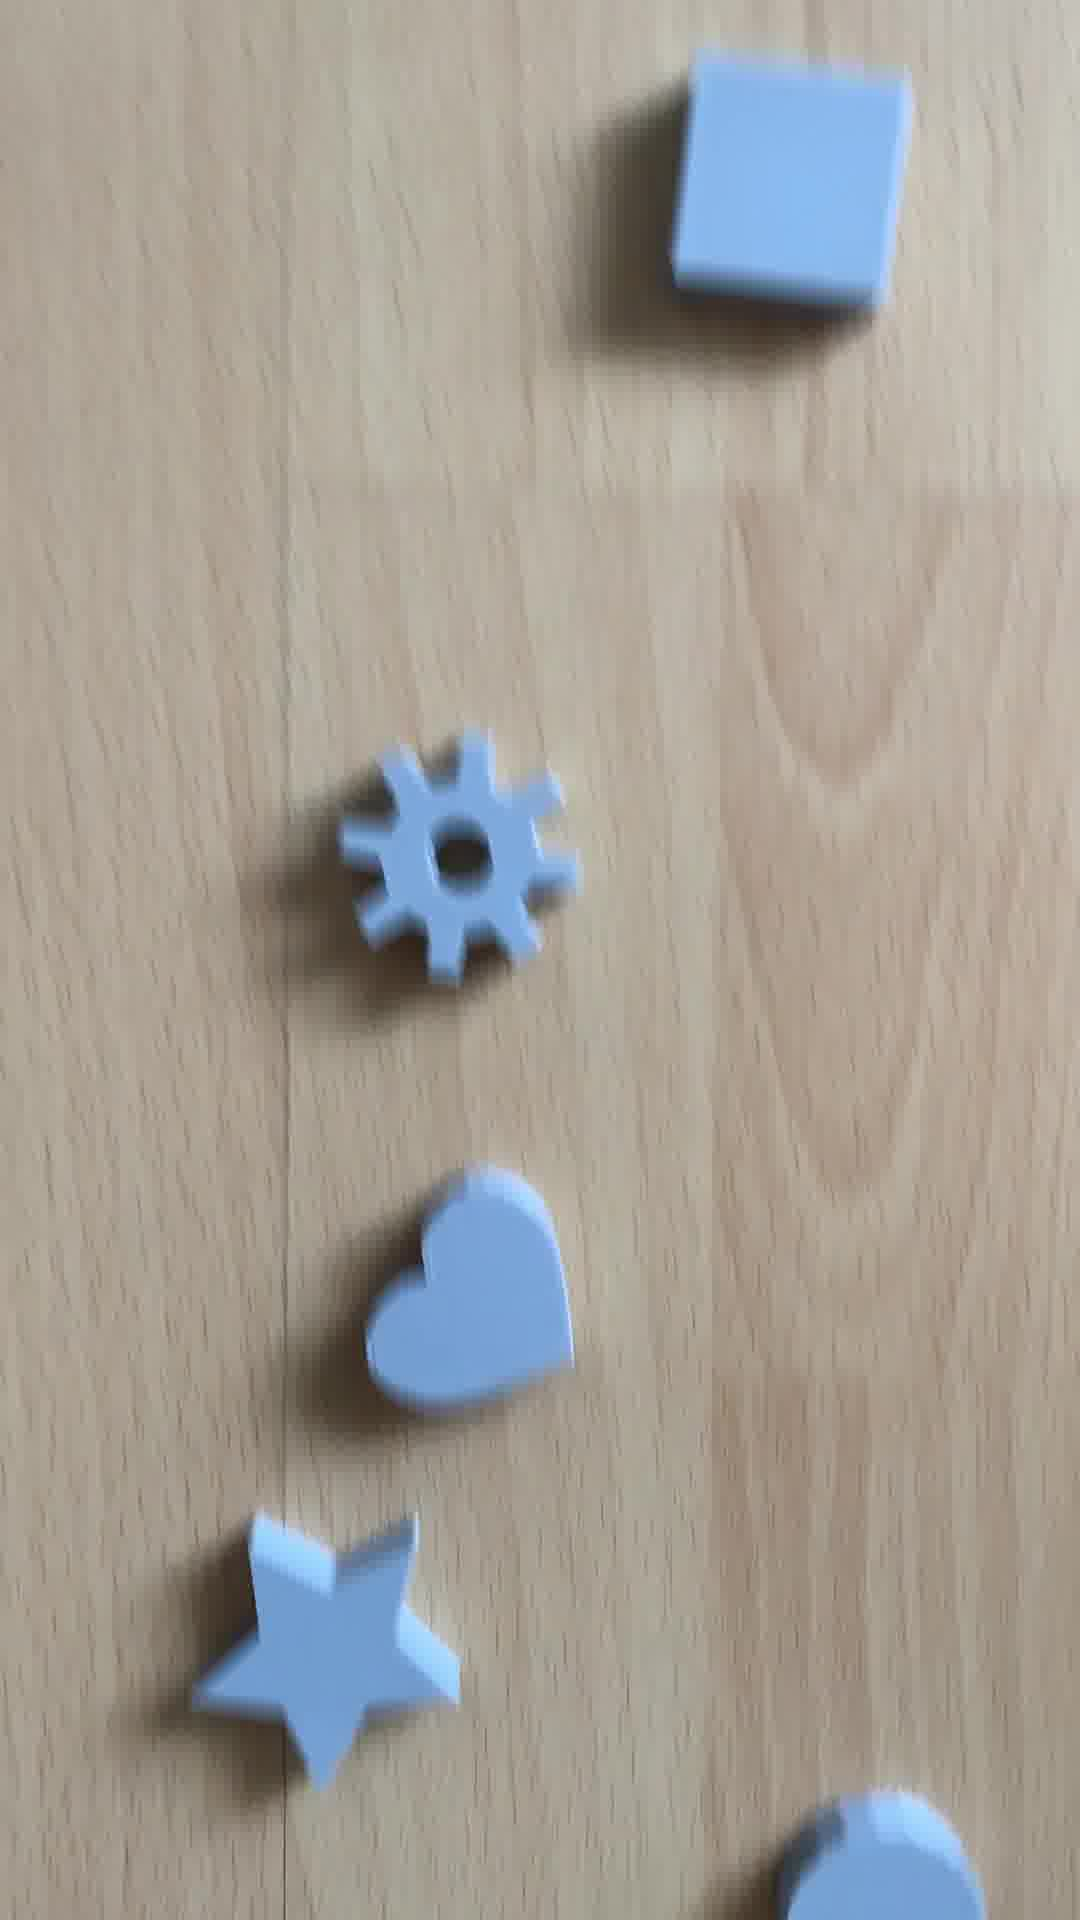Gray circle: (778, 1785, 1000, 1920)
Gray gear: (323, 728, 588, 989)
Gray heart: (356, 1175, 589, 1418)
Gray square: (674, 46, 913, 320)
Gray star: (220, 1513, 465, 1787)
